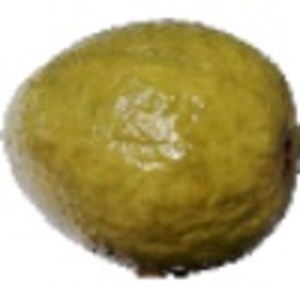goiaba: (3, 13, 298, 278)
